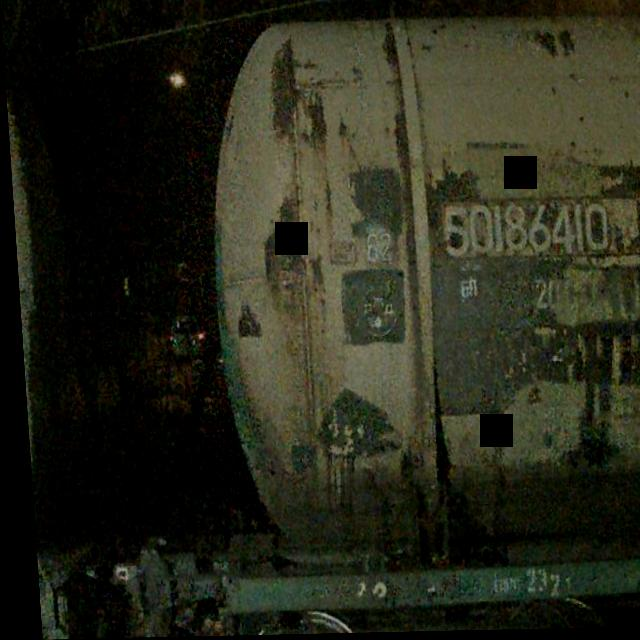tank: (160, 0, 640, 637)
